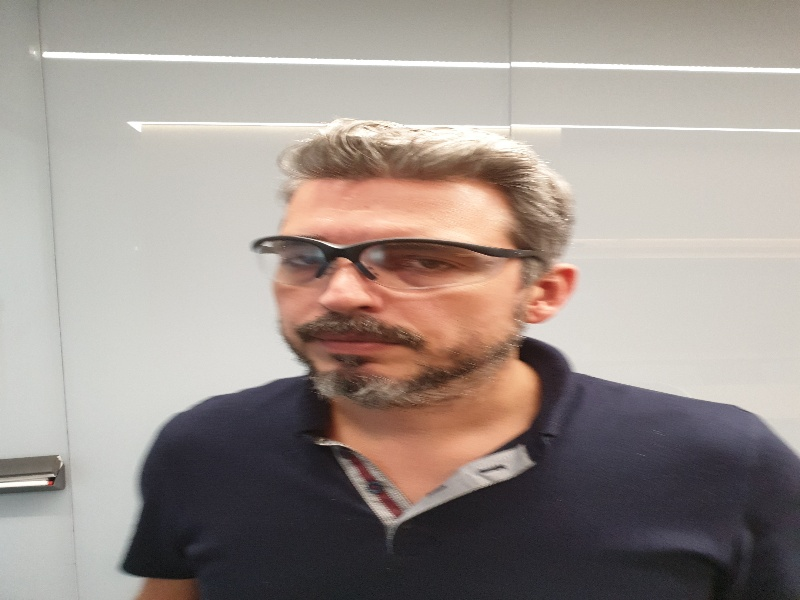Gozluk: (250, 234, 549, 292)
